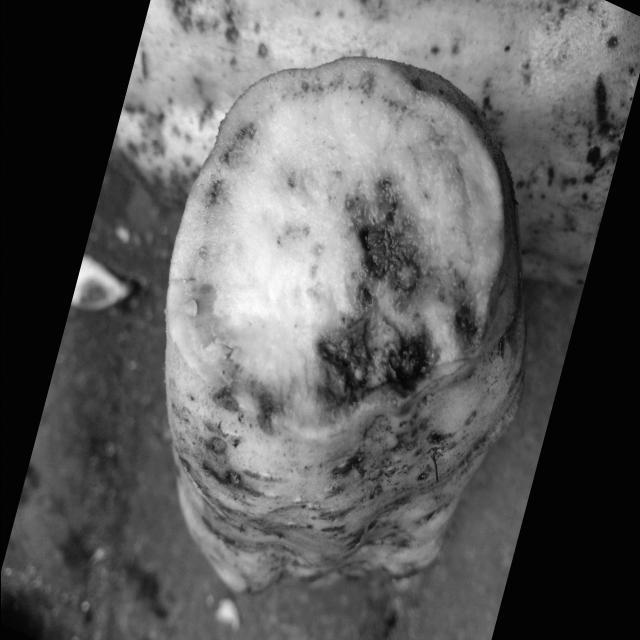Sick Sweet Potato_Tuber Rot: (166, 58, 518, 440)
